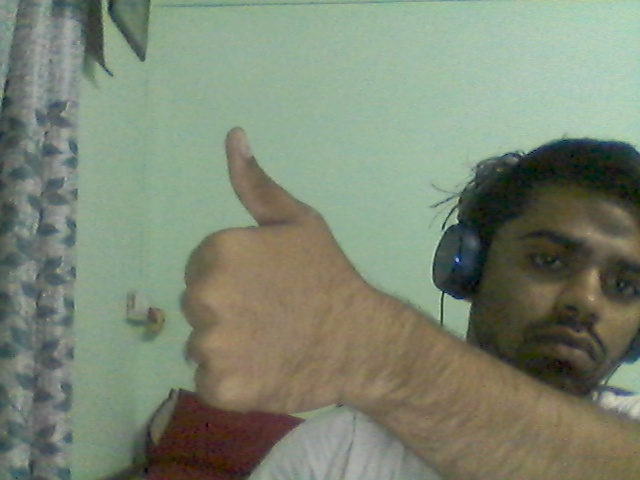Yes: (162, 97, 435, 462)
